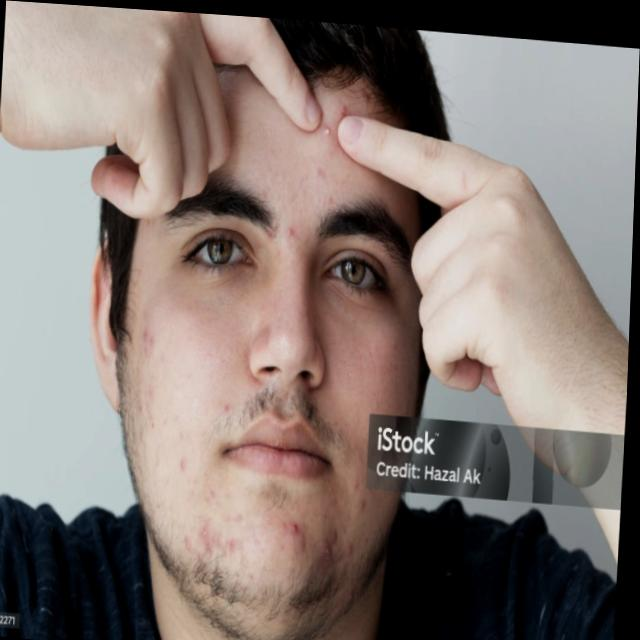pustule: (290, 511, 311, 549), (202, 512, 221, 550), (141, 317, 158, 347), (286, 217, 302, 238), (322, 538, 338, 559), (178, 451, 192, 473), (222, 393, 236, 411), (320, 118, 334, 134)
